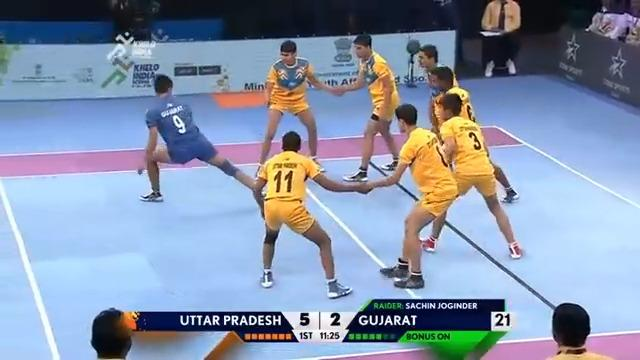Player: (250, 129, 374, 299), (365, 101, 460, 290), (435, 91, 510, 251), (254, 37, 336, 176), (331, 31, 404, 183), (411, 45, 488, 111)
Raider: (135, 71, 262, 208)
referee: (479, 0, 521, 77)
